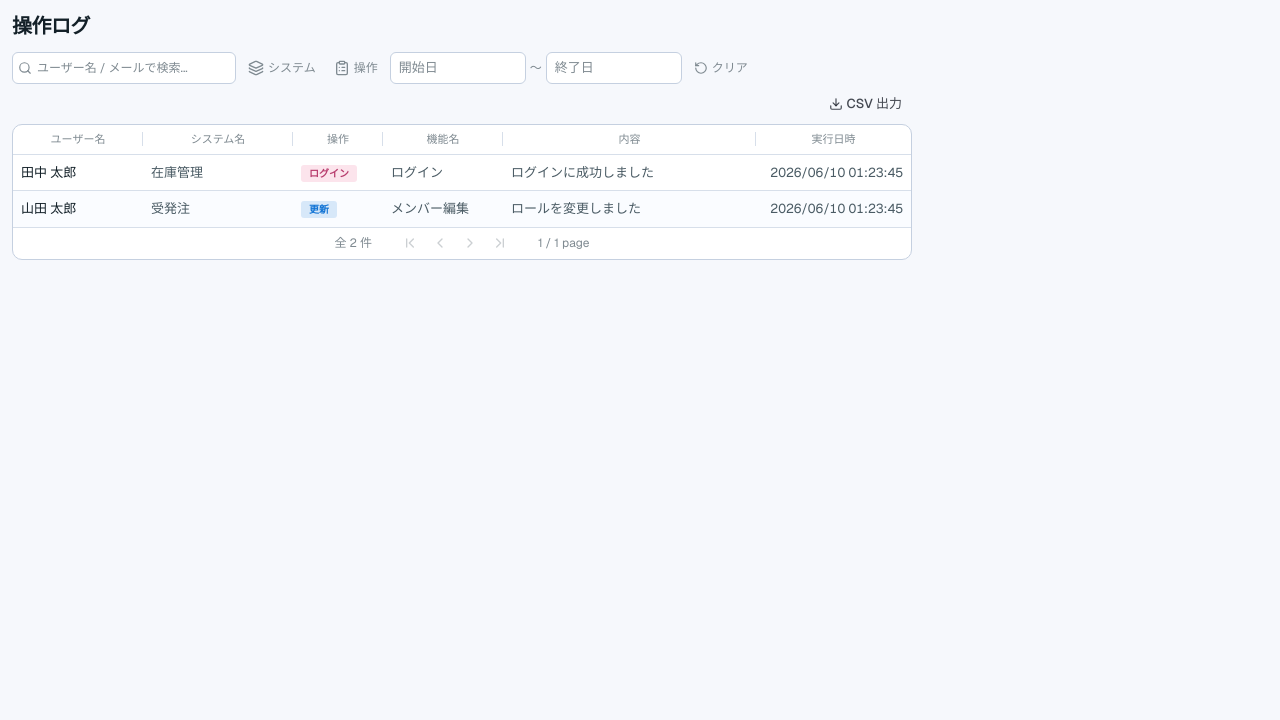
it: AuditLogScreen › CSV パネルは旧段落説明を出さず、注意書きは3点の箇条書きで示す（set-0083 / set-0112 / set-0117）
What coordinates should you click on to do the following:
click the button "CSV 出力"
I would click on:
 (865, 104)
Its box is x1=819 y1=88 x2=912 y2=120.
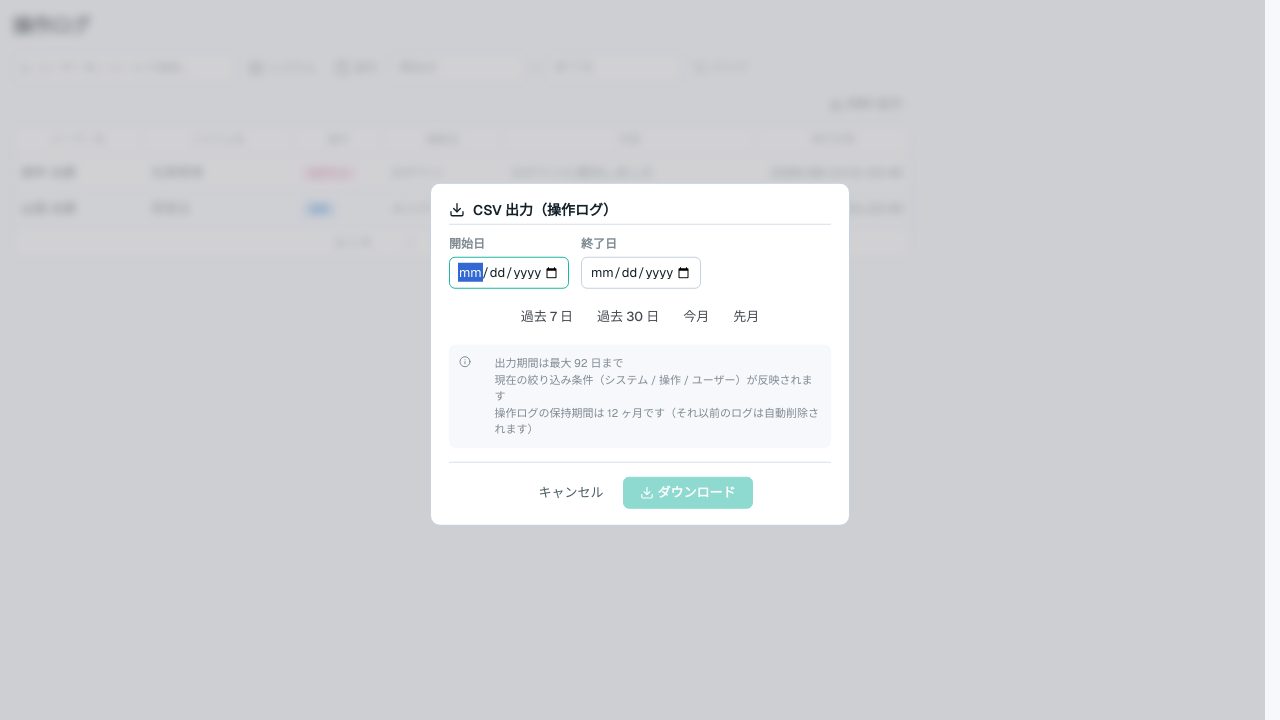
Result: the list is shown at x1=477 y1=355 x2=821 y2=437
Result: the list shows "絞り込み条件" at x1=495 y1=372 x2=813 y2=403
Result: the number of list items is 3 at x1=495 y1=356 x2=623 y2=370; x1=495 y1=371 x2=821 y2=404; x1=495 y1=404 x2=821 y2=437
